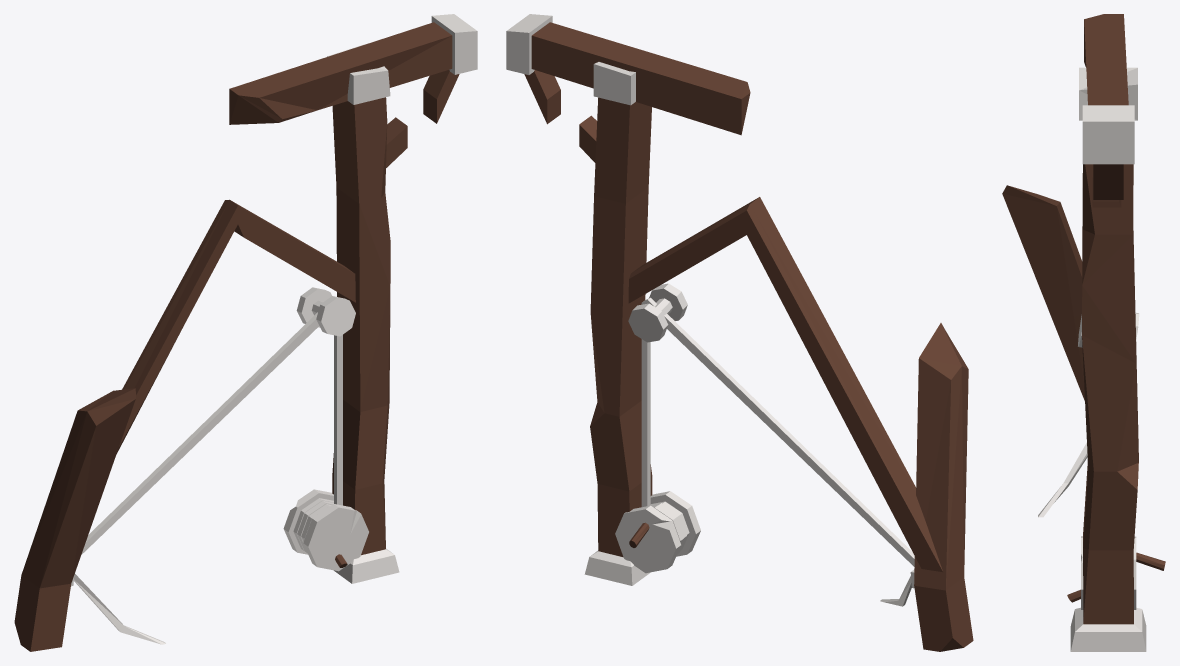
Rendered from Crane_3.fbx.
3 views of the same model, side by side, from view 1: azimuth 30°, elevation 25°; view 2: azimuth 150°, elevation 25°; view 3: azimuth 270°, elevation 25° (orthographic). The views are drawn at different scales.
Visible parts, largest first — view 1: Crane_3; view 2: Crane_3; view 3: Crane_3.
Part boxes in pixels (box(x1,y1,x2,y2)): Crane_3: box(14, 14, 477, 651); Crane_3: box(506, 14, 973, 651); Crane_3: box(1002, 14, 1165, 651).
Size of the model in its own units: 4.23 by 4.74 by 1.21.
